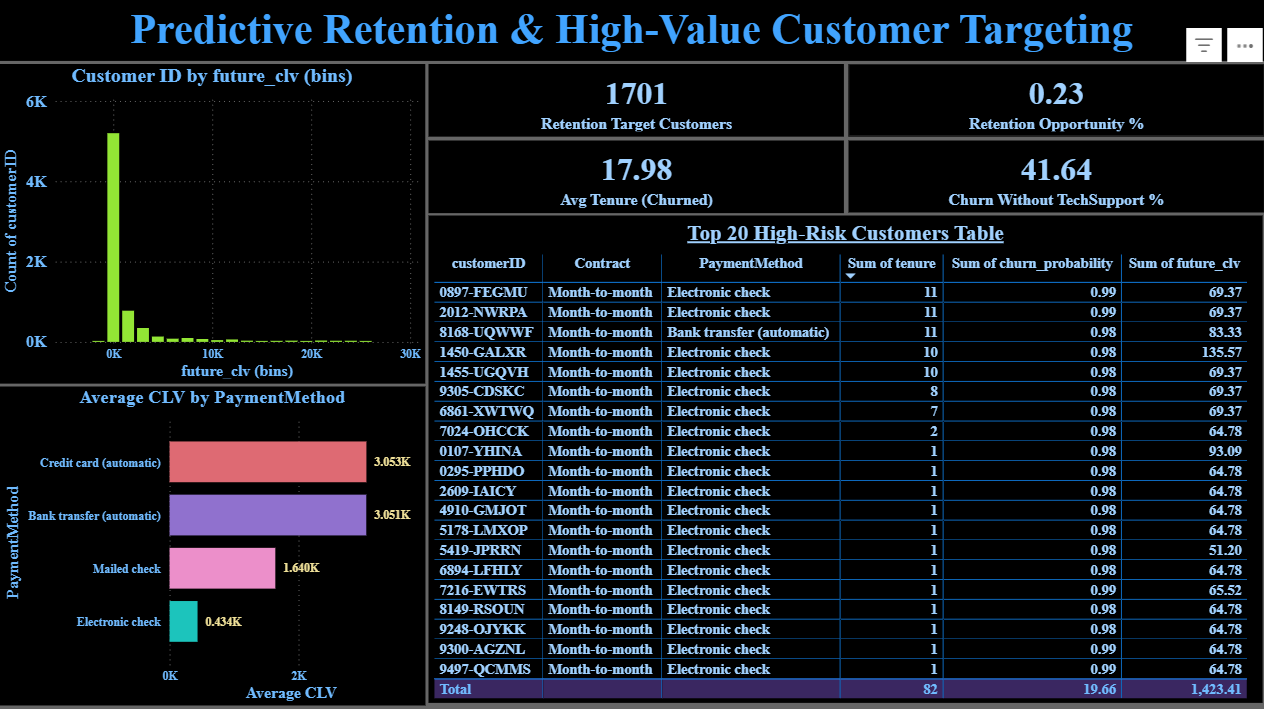

The page's visual inventory and layout, read from the dashboard file:
{"tool":"powerbi","page":{"name":"Page 3","canvas":[1280,720],"ordinal":2},"visuals":[{"type":"textbox","box":[1.5,1.5,1276.5,62.1],"z":0},{"type":"clusteredColumnChart","title":"Customer ID by future_clv (bins)","fields":{"Category":["Telco-Customer-Churn_With_Predictions.future_clv (bins)"],"Y":["CountNonNull(Telco-Customer-Churn_With_Predictions.customerID)"]},"box":[0,66.6,431.5,322.5],"z":1000},{"type":"barChart","fields":{"Y":["Telco-Customer-Churn_With_Predictions.Average CLV"],"Category":["Telco-Customer-Churn_With_Predictions.PaymentMethod"]},"box":[1.5,392,430,322],"z":2000},{"type":"tableEx","title":"Top 20 High-Risk Customers Table","fields":{"Values":["Telco-Customer-Churn_With_Predictions.customerID","Telco-Customer-Churn_With_Predictions.Contract","Telco-Customer-Churn_With_Predictions.PaymentMethod","Sum(Telco-Customer-Churn_With_Predictions.tenure)","Sum(Telco-Customer-Churn_With_Predictions.churn_probability)","Sum(Telco-Customer-Churn_With_Predictions.future_clv)"]},"box":[434.6,219.6,841.9,495.1],"z":3000},{"type":"card","fields":{"Values":["Telco-Customer-Churn_With_Predictions.Retention Target Customers"]},"box":[434.6,66.6,419.4,73],"z":4000},{"type":"card","fields":{"Values":["Telco-Customer-Churn_With_Predictions.Retention Opportunity %"]},"box":[858.6,66.6,419.4,73],"z":5000},{"type":"card","fields":{"Values":["Telco-Customer-Churn_With_Predictions.Avg Tenure (Churned)"]},"box":[434.6,144,419.4,73],"z":6000},{"type":"card","fields":{"Values":["Telco-Customer-Churn_With_Predictions.Churn Without TechSupport %"]},"box":[858.6,143.8,419,72.7],"z":7000}]}

Visuals, with their boxes in screenshot pixels (x1, y1, x2, y2), scaled from the page's 1280x720 canvas onto the 1264x709 screenshot:
textbox: (1, 1, 1262, 63)
"Customer ID by future_clv (bins)" clusteredColumnChart: (0, 66, 426, 383)
barChart - Telco-Customer-Churn_With_Predictions.Average CLV x Telco-Customer-Churn_With_Predictions.PaymentMethod: (1, 386, 426, 703)
"Top 20 High-Risk Customers Table" tableEx: (429, 216, 1261, 704)
card - Telco-Customer-Churn_With_Predictions.Retention Target Customers: (429, 66, 843, 137)
card - Telco-Customer-Churn_With_Predictions.Retention Opportunity %: (848, 66, 1262, 137)
card - Telco-Customer-Churn_With_Predictions.Avg Tenure (Churned): (429, 142, 843, 214)
card - Telco-Customer-Churn_With_Predictions.Churn Without TechSupport %: (848, 142, 1262, 213)
